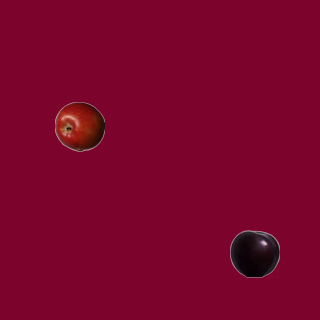Apple Braeburn: (54, 101, 104, 151)
Cherry Wax Black: (229, 228, 279, 278)
